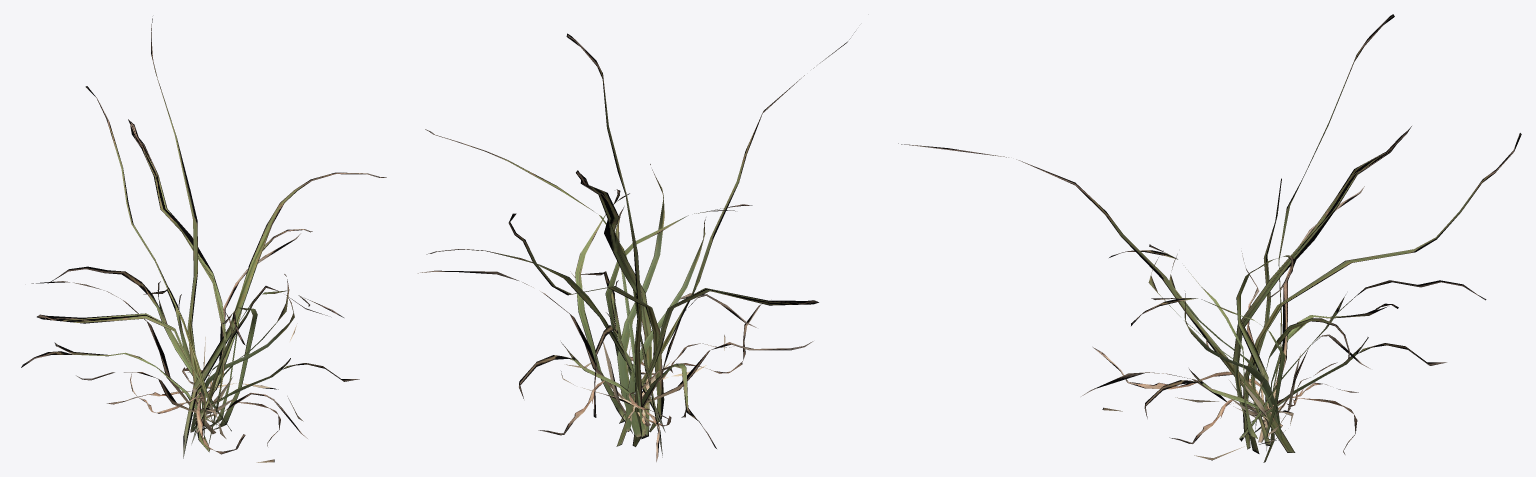
File: cover_grass.glb
3 views of the same model, side by side, from view 1: azimuth 30°, elevation 25°; view 2: azimuth 150°, elevation 25°; view 3: azimuth 270°, elevation 25° (orthographic). The views are drawn at different scales.
Parts seen in each view (by area): view 1: cover_grass; view 2: cover_grass; view 3: cover_grass.
Part boxes in pixels (x1,y1,x2,y2): cover_grass: (21, 18, 386, 462); cover_grass: (417, 31, 855, 461); cover_grass: (898, 14, 1521, 462).
Bounding box in the file's own units: 0.2907 × 0.3217 × 0.402.
Materials: 1 (1 with a texture image).
